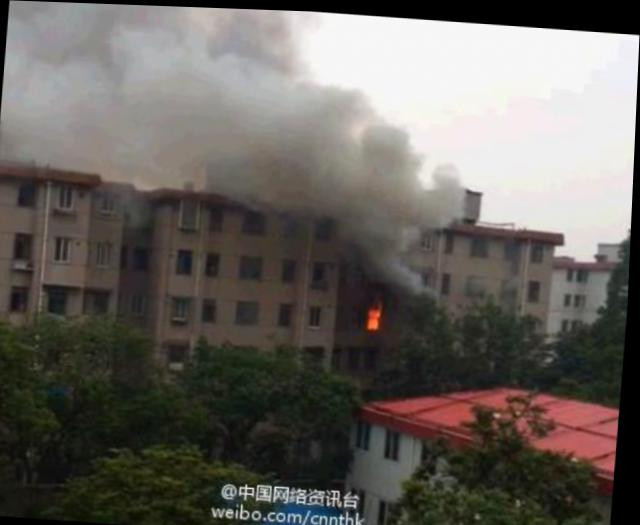fire: (367, 302, 382, 326)
